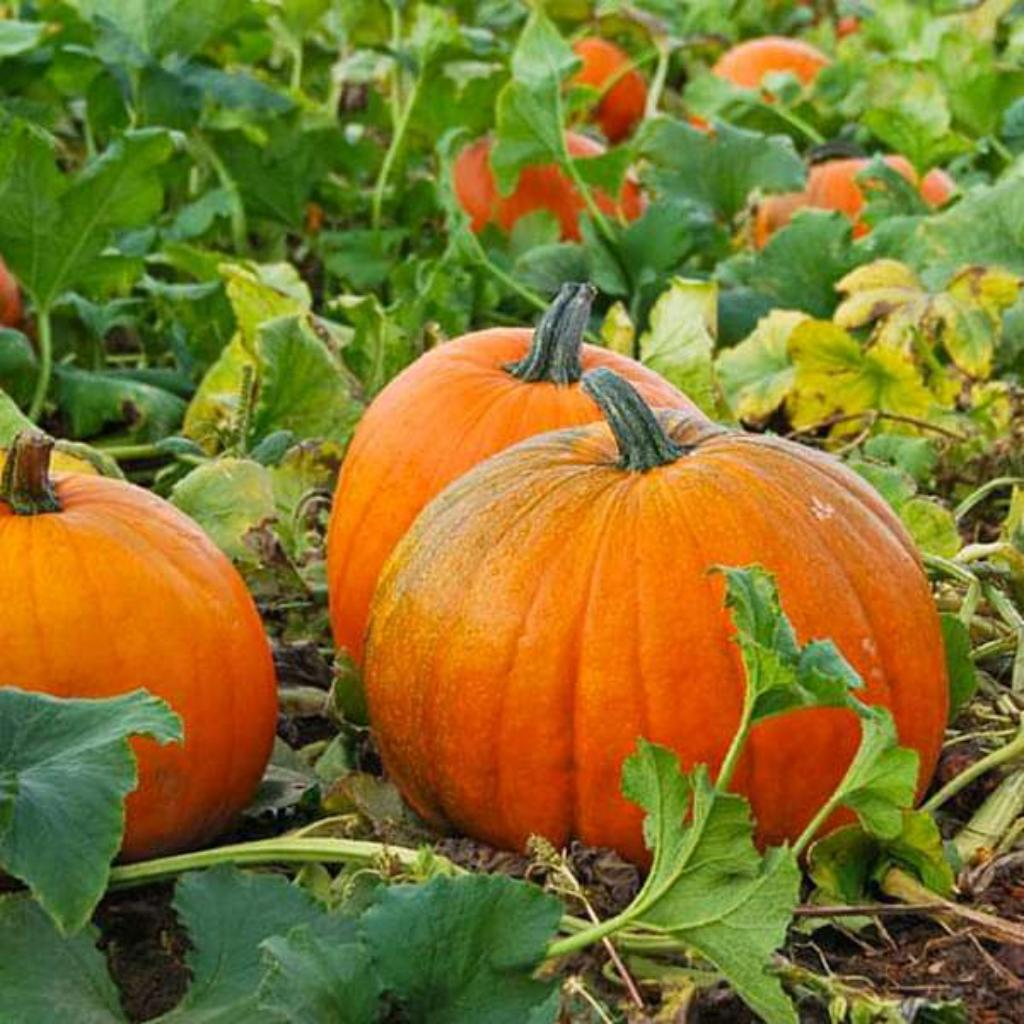pumpkin: (364, 370, 948, 859), (328, 284, 696, 659), (0, 430, 276, 857), (732, 710, 860, 843), (454, 138, 586, 240), (752, 160, 872, 245), (574, 38, 646, 142), (712, 36, 830, 87), (0, 258, 24, 327), (888, 157, 916, 183), (568, 133, 596, 152)
